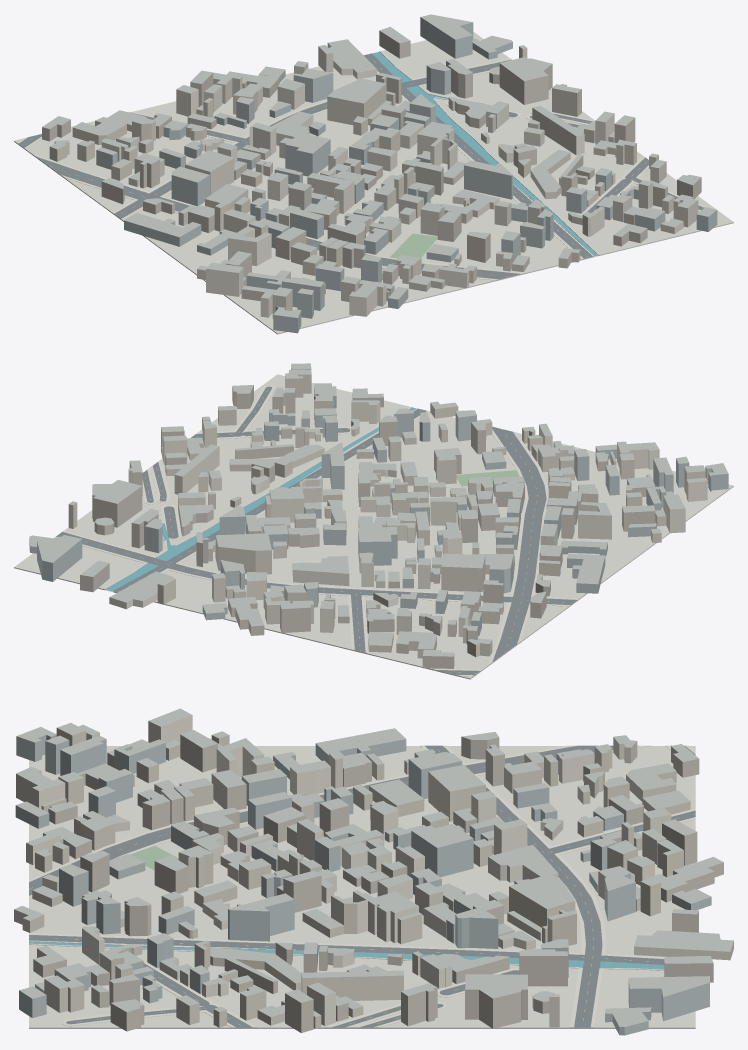
3 views of the same model, one above another, from view 1: azimuth 30°, elevation 25°; view 2: azimuth 150°, elevation 25°; view 3: azimuth 270°, elevation 25° (orthographic). The views are drawn at different scales.
Visible parts, largest first — view 1: city; view 2: city; view 3: city.
Part boxes in pixels (bbox=[...]): city: bbox=[14, 14, 733, 334]; city: bbox=[14, 363, 733, 679]; city: bbox=[14, 708, 733, 1035].
Size of the model in its own units: 527 by 26 by 540.
